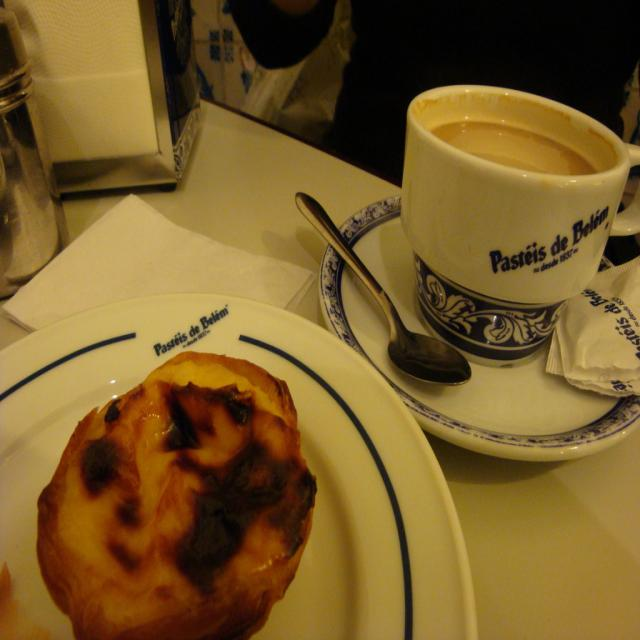Coffee: (427, 120, 599, 176)
